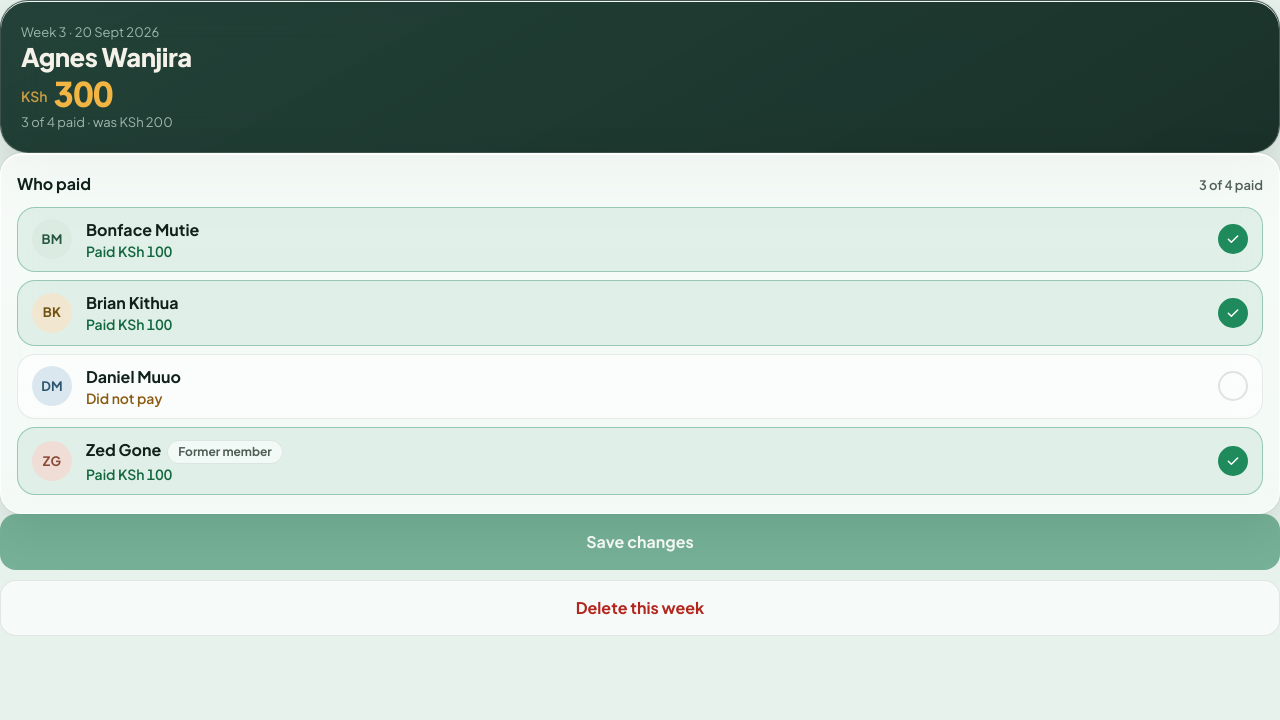
WeekEditor: correcting a past week › shows a save error without losing the ticks
Click the button with class "toggle" showing "DM Daniel Muuo Did not pay": (52, 386) [17, 354, 1263, 419]
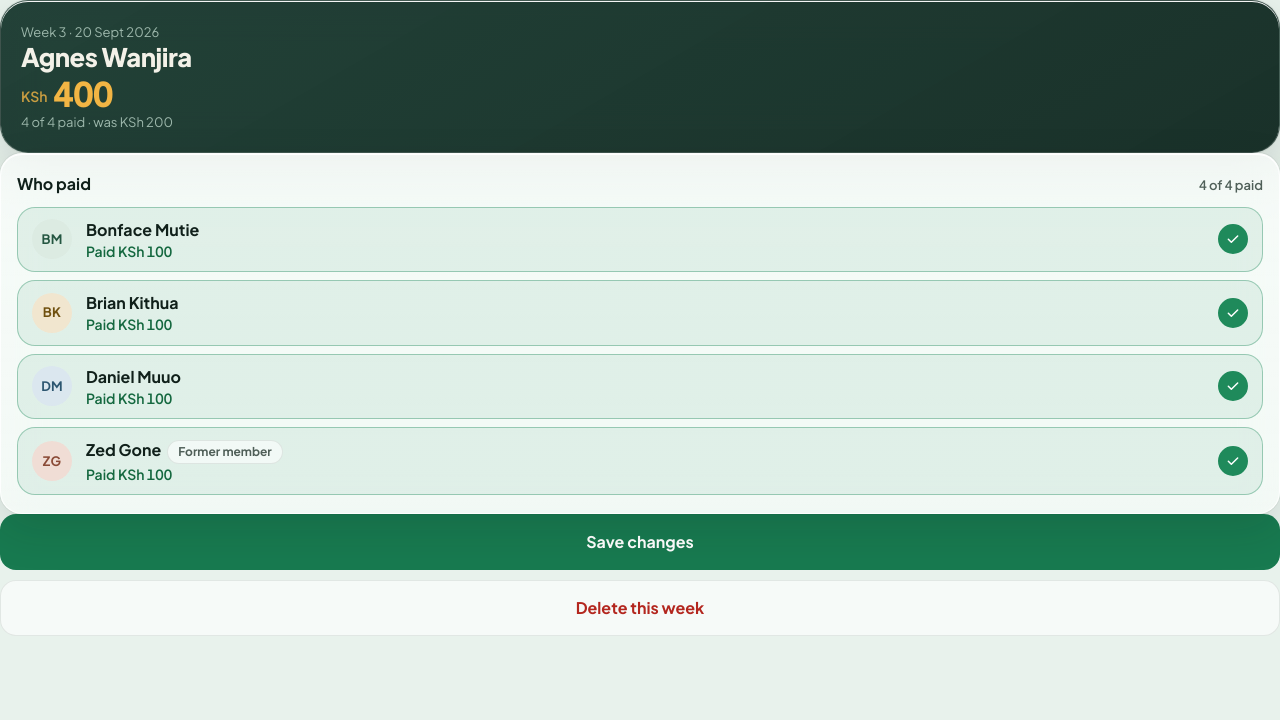
Click the button "Save changes": (640, 542) [0, 514, 1279, 570]
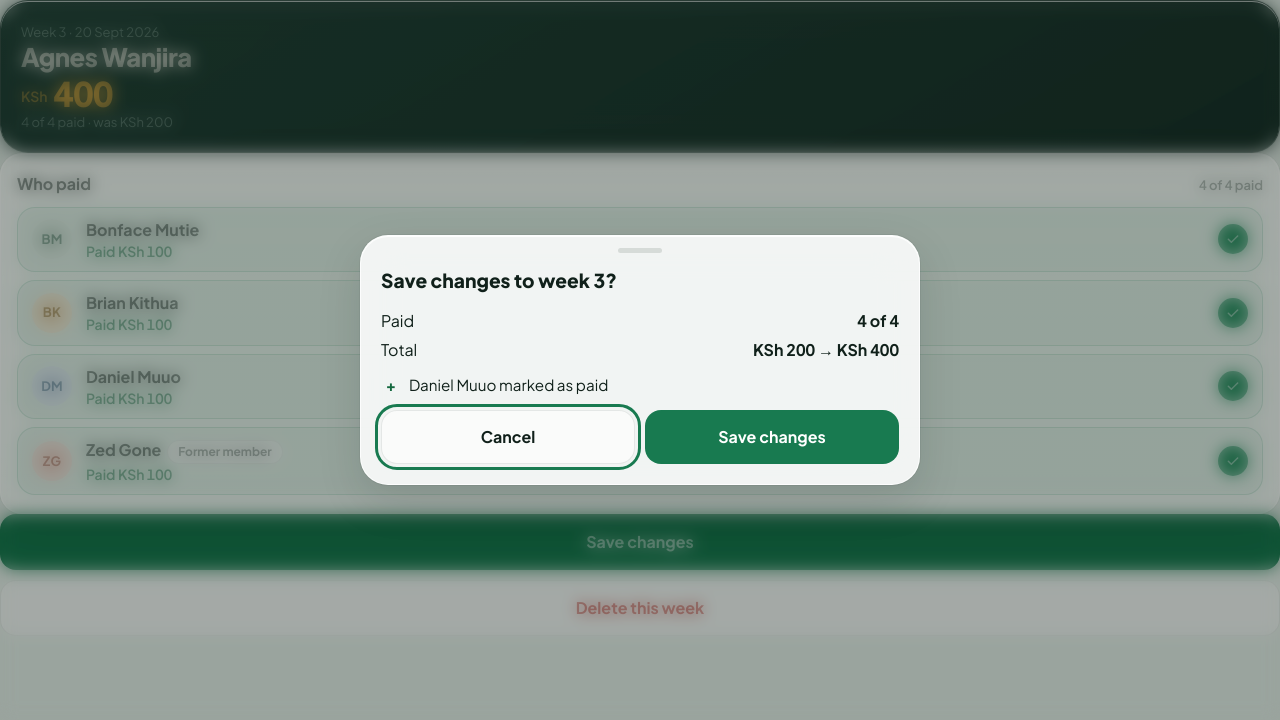
Click the submit button: (772, 437) [645, 410, 899, 464]
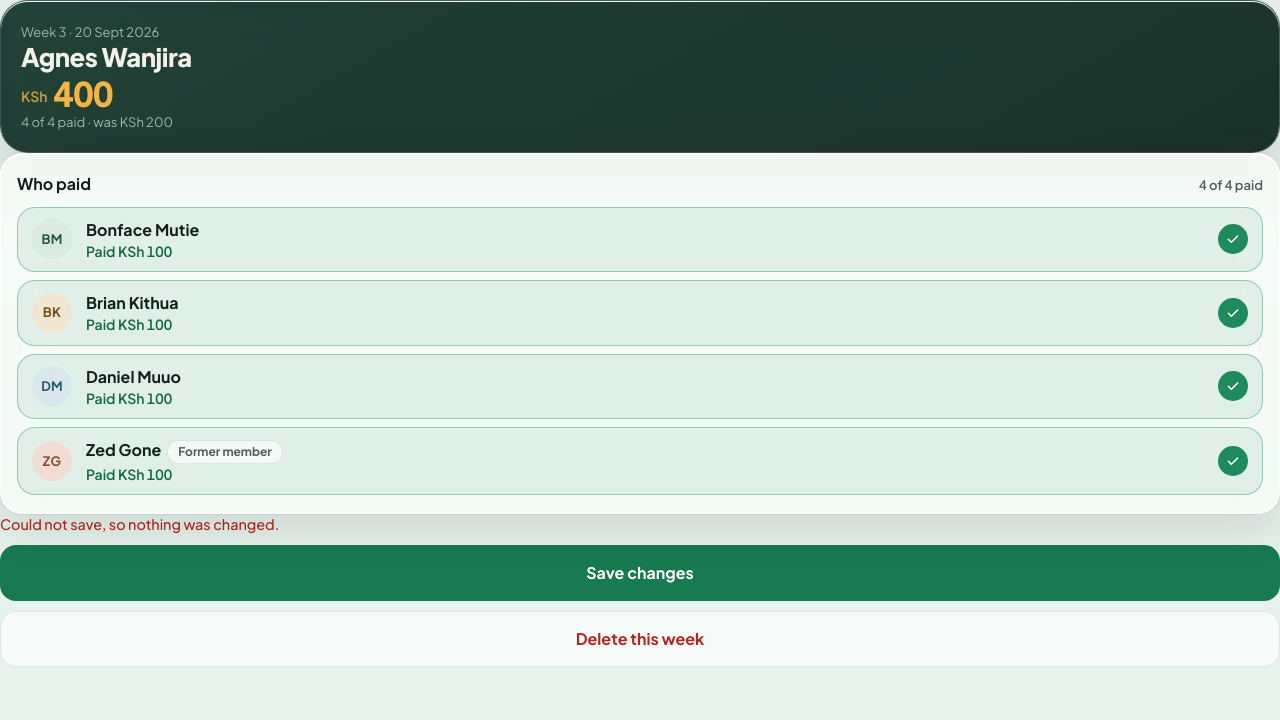
Result: the message with class "error" shows "nothing was changed" at [0, 515, 279, 533]
